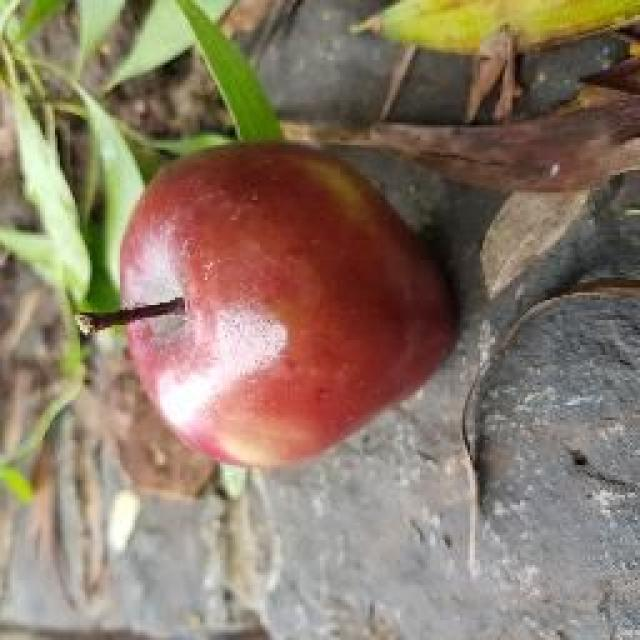Good_Apple: (118, 142, 460, 472)
